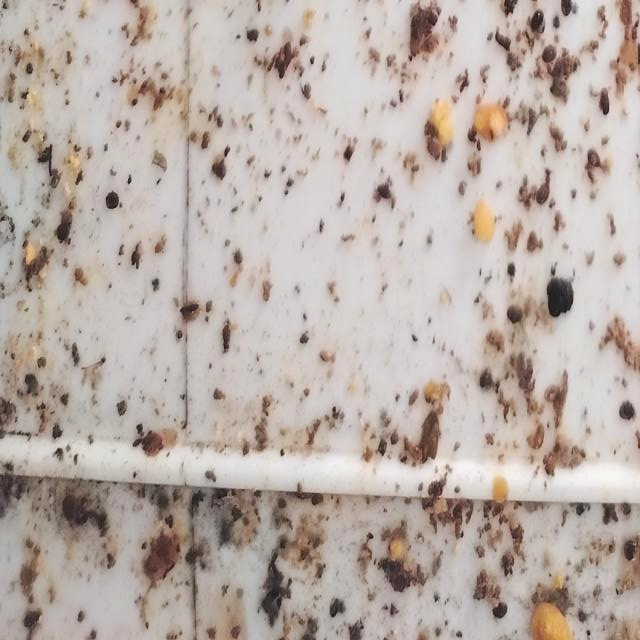varroa: (535, 176, 554, 206), (506, 301, 525, 325), (599, 82, 613, 112), (542, 38, 560, 61), (587, 144, 603, 169), (55, 220, 73, 242), (531, 6, 546, 31), (493, 598, 510, 620), (106, 186, 123, 207), (329, 592, 342, 619)
